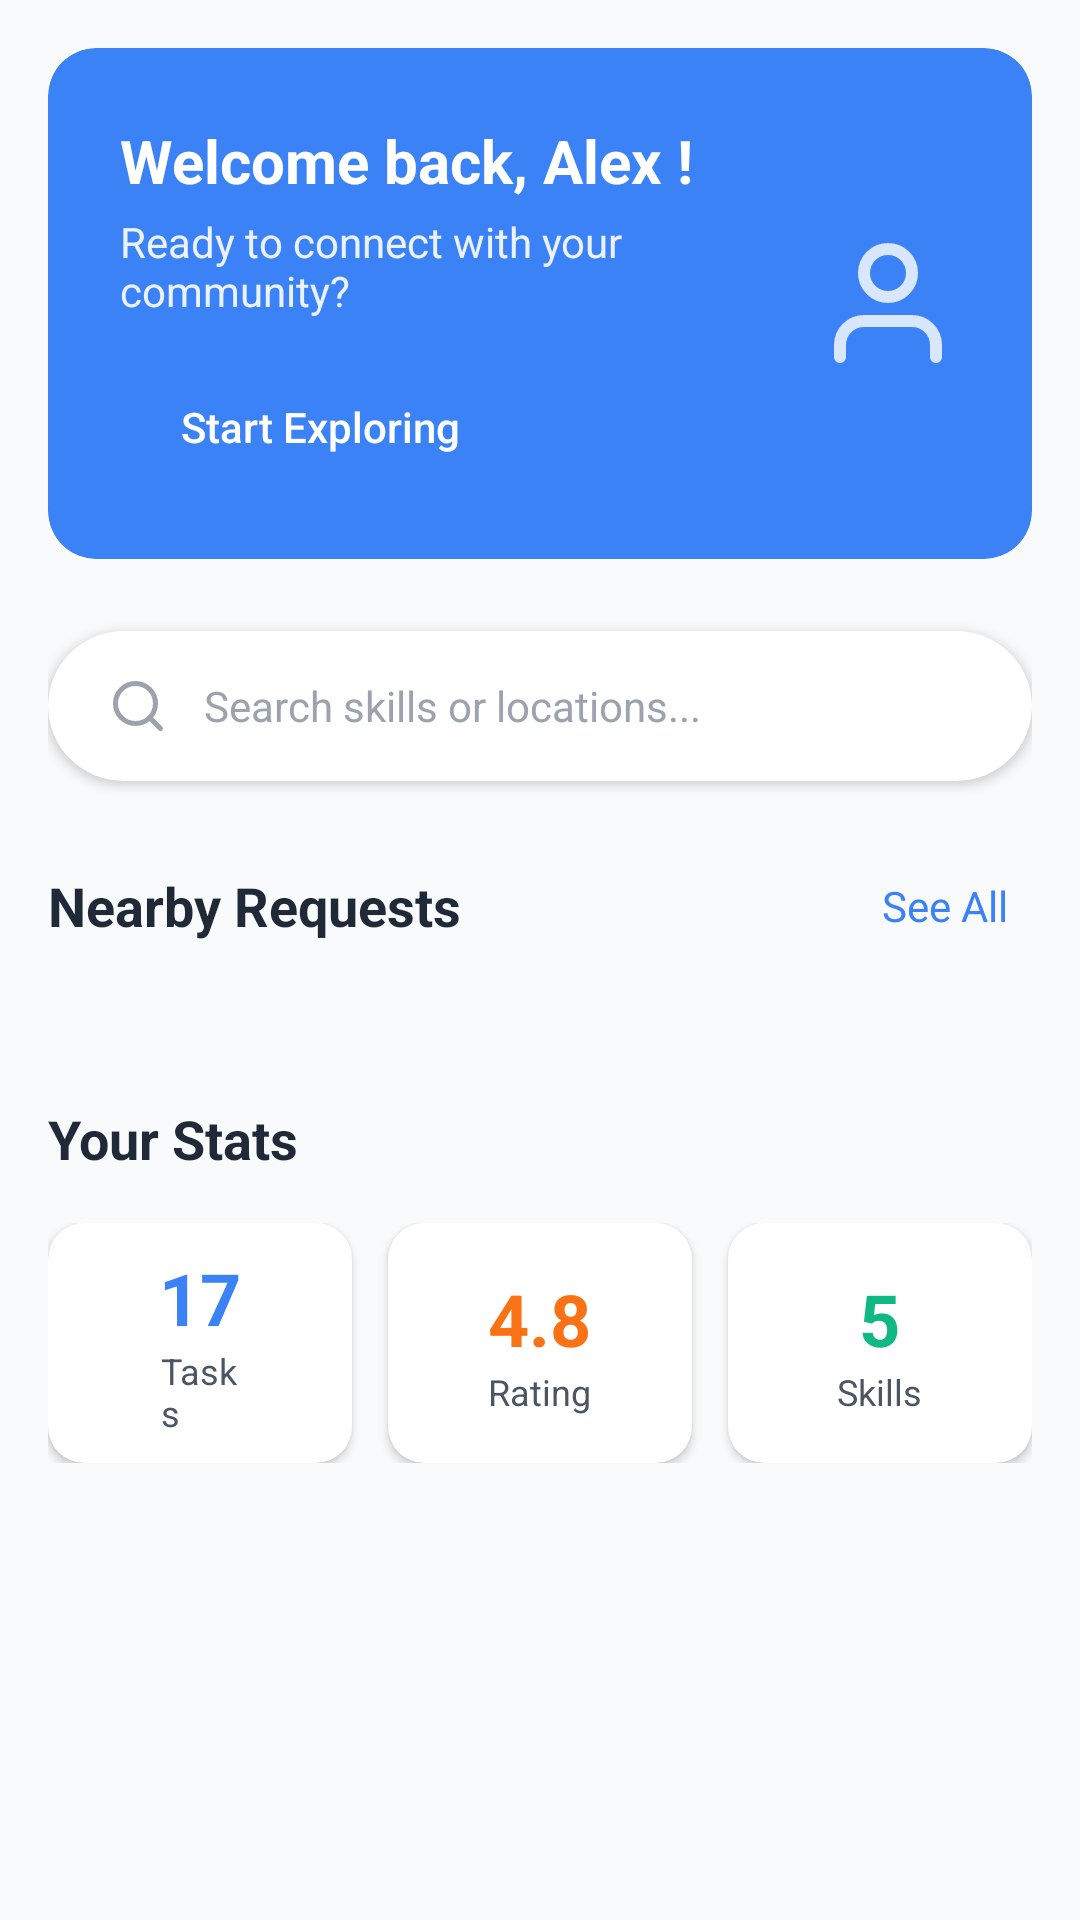

Where to tap for icons on this 1080 x 1920 app screen, as [x,y]:
person: [888,303]
